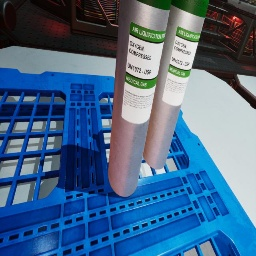0: (108, 0, 171, 197), (143, 0, 209, 170)
NitrogenTank ,: (0, 0, 17, 30)
